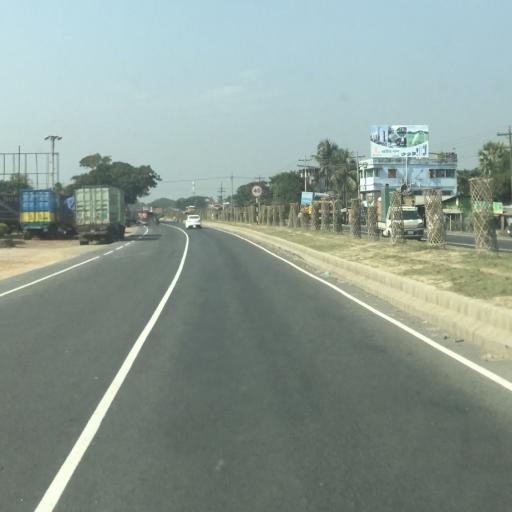car: (185, 214, 204, 231)
pickup: (387, 204, 425, 239)
truck: (70, 184, 130, 247), (16, 188, 66, 241)
